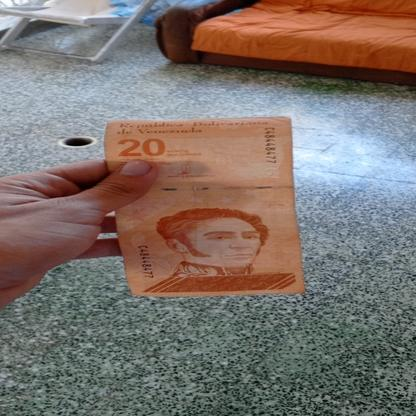twenty-front-vef: (103, 117, 304, 297)
